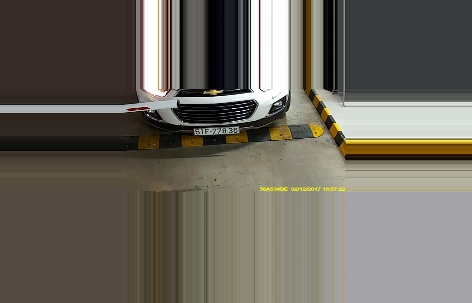plate: (190, 124, 240, 136)
